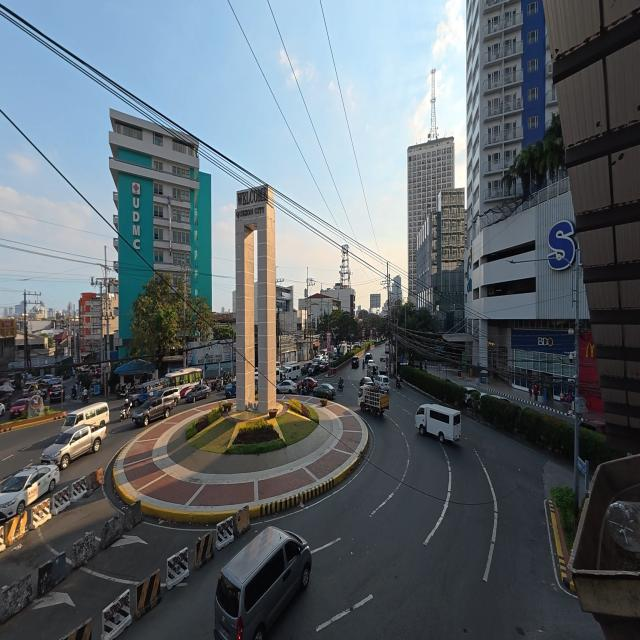car: (130, 391, 176, 428)
